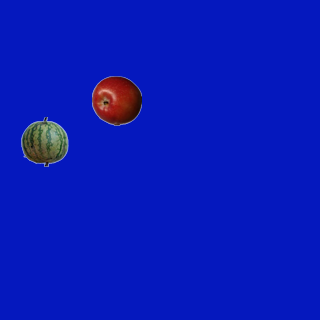Apple Braeburn: (91, 75, 141, 125)
Watermelon: (19, 116, 69, 166)
